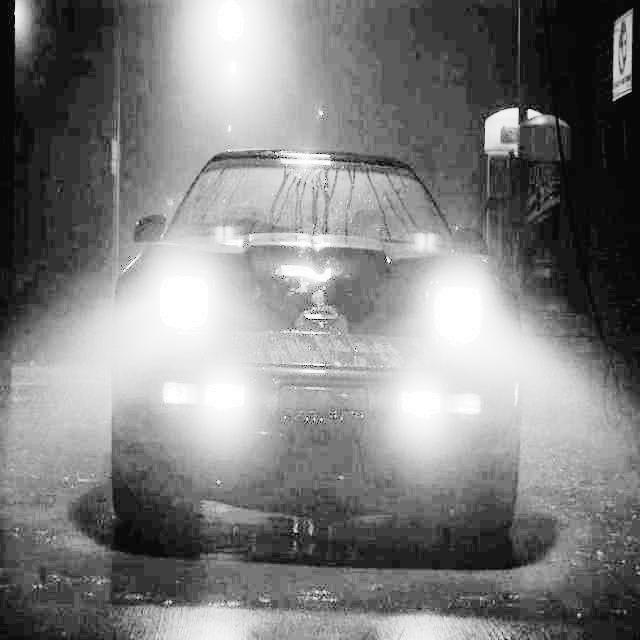Car: (116, 106, 531, 545)
